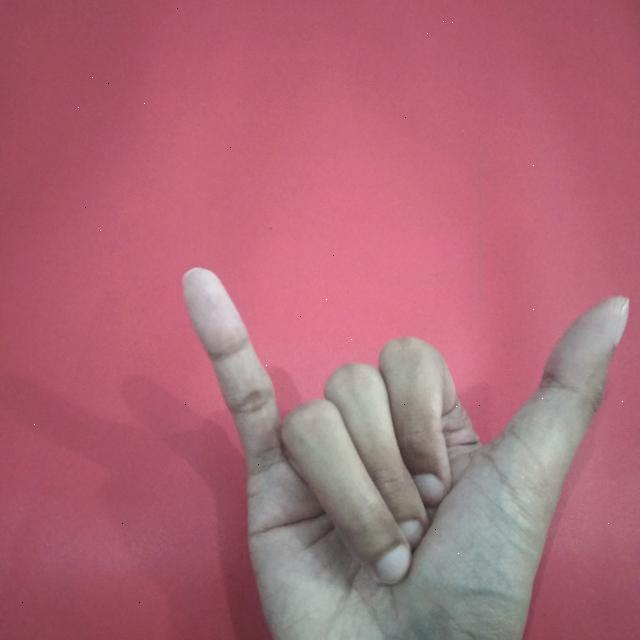Y: (177, 259, 640, 640)
